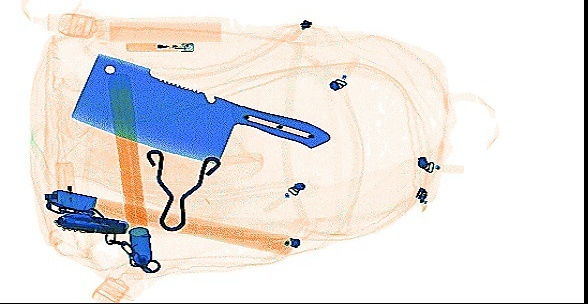knife: (67, 52, 332, 167), (52, 207, 129, 236)
lighter: (123, 41, 196, 52)
slingshot: (143, 147, 221, 232)
